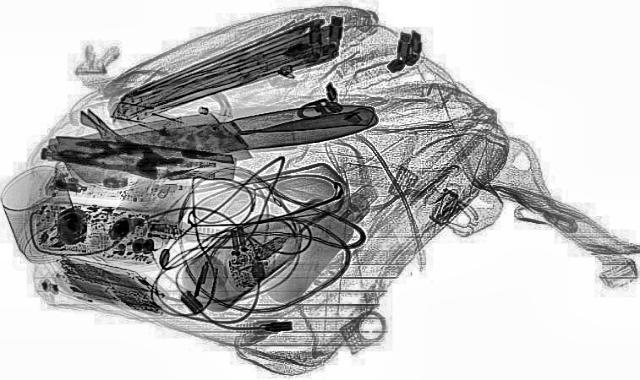Knife: (44, 82, 383, 184), (54, 93, 386, 186)
